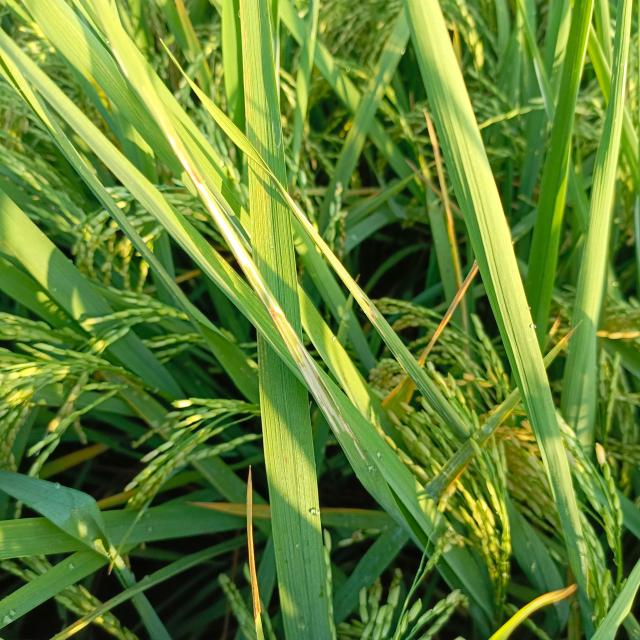Brown spot: (479, 580, 582, 640), (418, 267, 476, 361), (240, 462, 264, 640), (418, 106, 454, 214), (440, 215, 466, 263), (183, 498, 244, 517)
brown plant hopper: (286, 338, 356, 448), (162, 131, 230, 237), (418, 265, 478, 367), (231, 237, 282, 321), (260, 159, 314, 233), (310, 233, 352, 286), (350, 285, 386, 329)
